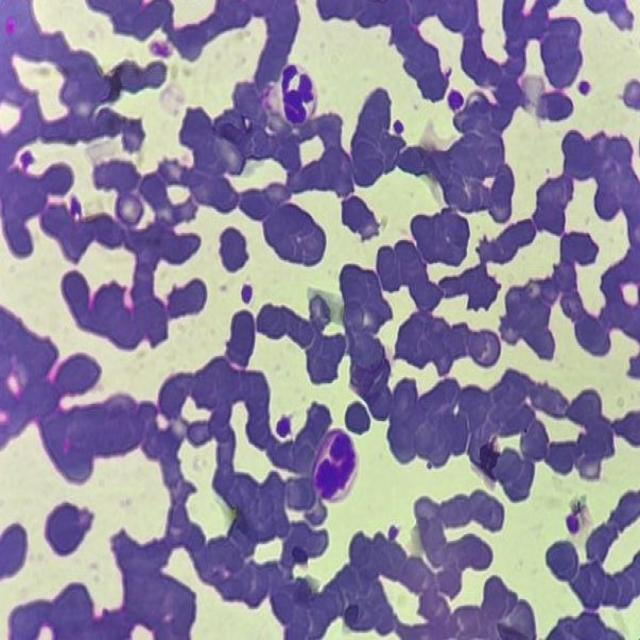Neutrofilo: (311, 427, 360, 504), (278, 60, 321, 132)
